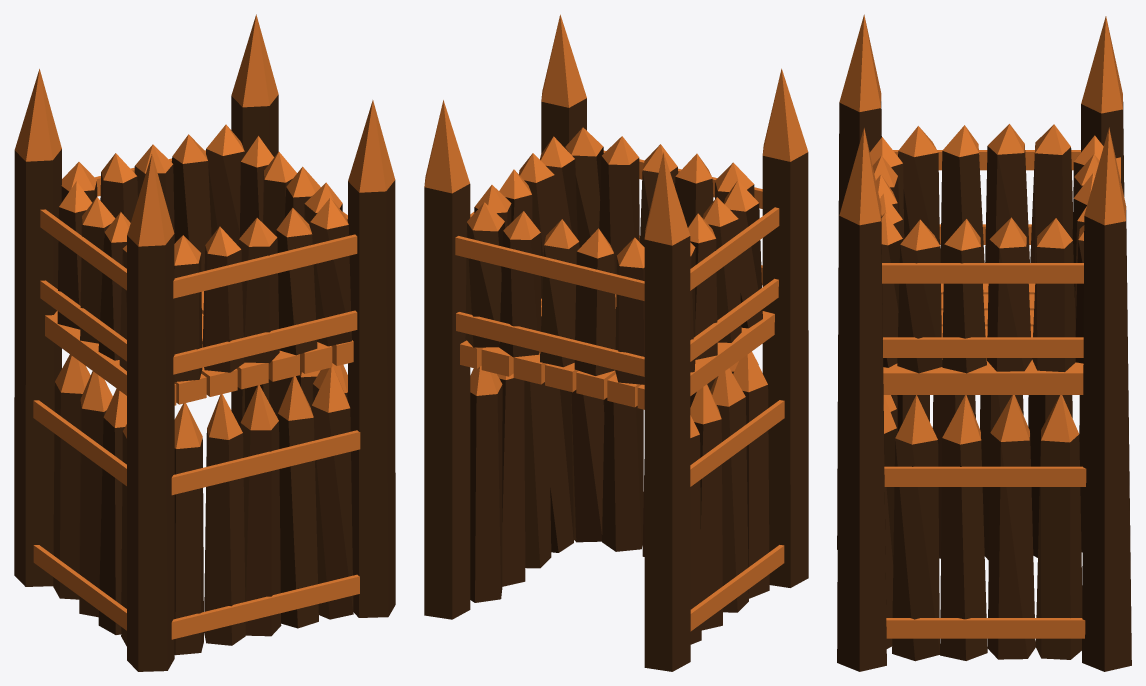
The model's file is simpleTower 1.FBX.
The picture shows the model from 3 angles, left to right: view 1: azimuth 30°, elevation 25°; view 2: azimuth 150°, elevation 25°; view 3: azimuth 270°, elevation 25°; orthographic projection. The views are drawn at different scales.
Visible parts, largest first — view 1: Cone365, Cone337, Cone364, Cone245, Cone248, Cone249, Cone247, Cone246, Cone374, Cone348, Cone375, Cone376 (+32 smaller); view 2: Cone364, Cone348, Cone365, Cone338, Cone248, Cone376, Cone340, Cone341, Cone249, Cone375, Cone377, Cone350 (+31 smaller); view 3: Cone337, Cone348, Cone342, Cone340, Cone338, Cone341, Box071, Cone365, Cone364, Cone347, Box030, Box029 (+23 smaller).
Part boxes in pixels (x1,y1,x2,y2): Cone365: (127, 154, 174, 671); Cone337: (348, 100, 395, 617); Cone364: (14, 69, 61, 586); Cone245: (204, 394, 245, 645); Cone248: (278, 376, 318, 628); Cone249: (311, 365, 353, 619); Cone247: (240, 385, 281, 636); Cone246: (174, 403, 203, 655); Cone374: (53, 354, 90, 599); Cone348: (231, 14, 278, 427); Cone375: (79, 371, 112, 617); Cone376: (98, 388, 126, 634); Cone364: (644, 152, 690, 671); Cone348: (424, 100, 470, 619); Cone365: (762, 68, 808, 587); Cone338: (470, 366, 502, 602); Cone248: (602, 398, 643, 551); Cone376: (710, 368, 748, 612); Cone340: (497, 373, 525, 586); Cone341: (524, 380, 551, 568); Cone249: (571, 390, 604, 542); Cone375: (690, 384, 722, 630); Cone377: (733, 351, 769, 598); Cone350: (599, 136, 639, 274); Cone337: (837, 127, 886, 671); Cone348: (1082, 127, 1131, 671); Cone342: (892, 395, 939, 661); Cone340: (987, 395, 1035, 659); Cone338: (1035, 395, 1082, 659); Cone341: (940, 395, 987, 660); Box071: (883, 359, 1083, 394); Cone365: (837, 14, 881, 549); Cone364: (1079, 16, 1124, 552); Cone347: (897, 219, 942, 373); Box030: (884, 466, 1086, 486); Box029: (882, 263, 1083, 283).
Bounding box in the file's own units: 66.65 × 124 × 61.94.
